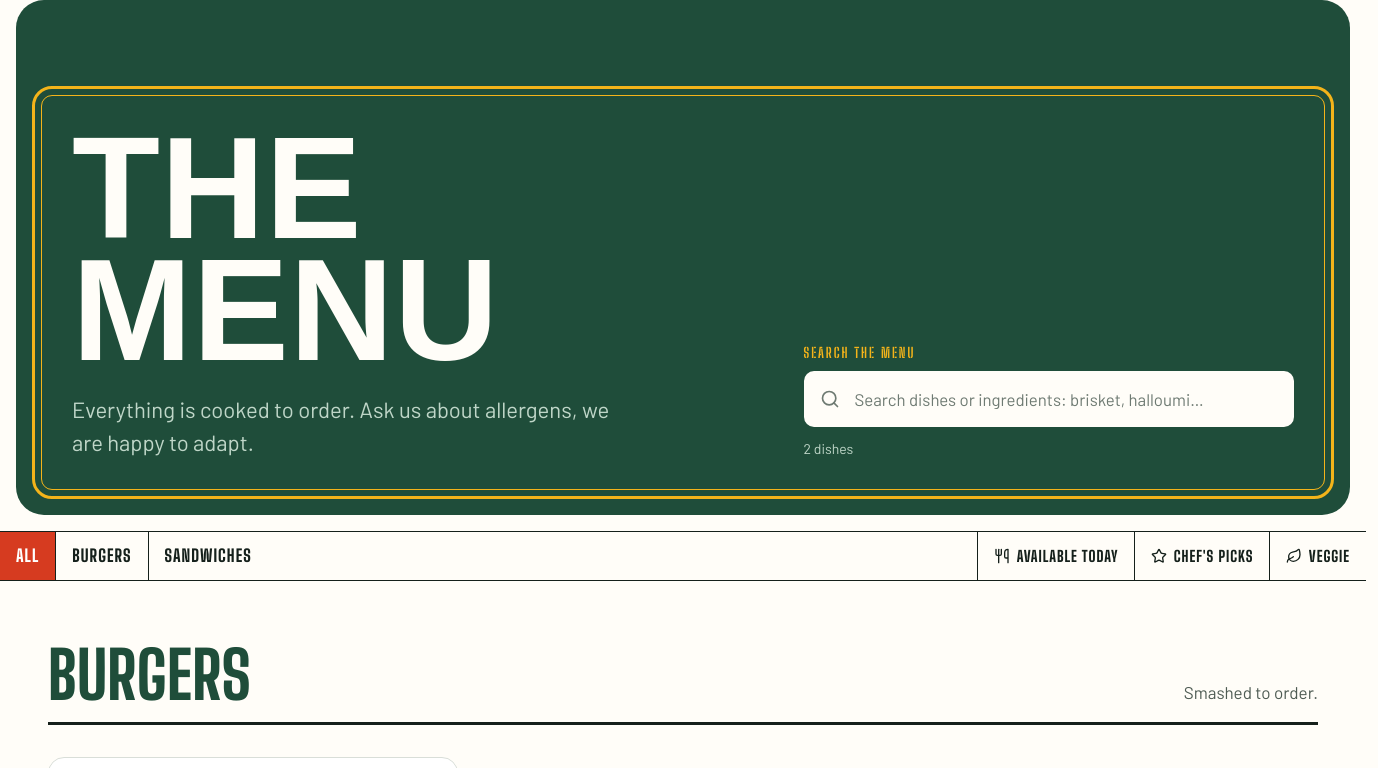
Test case: Public menu › searches dishes and shows a friendly empty state
Step 1. Type "zzz" into the search field labelled "Search the menu" → (1049, 399), box left=804, top=371, right=1294, bottom=427
(page scrolled)
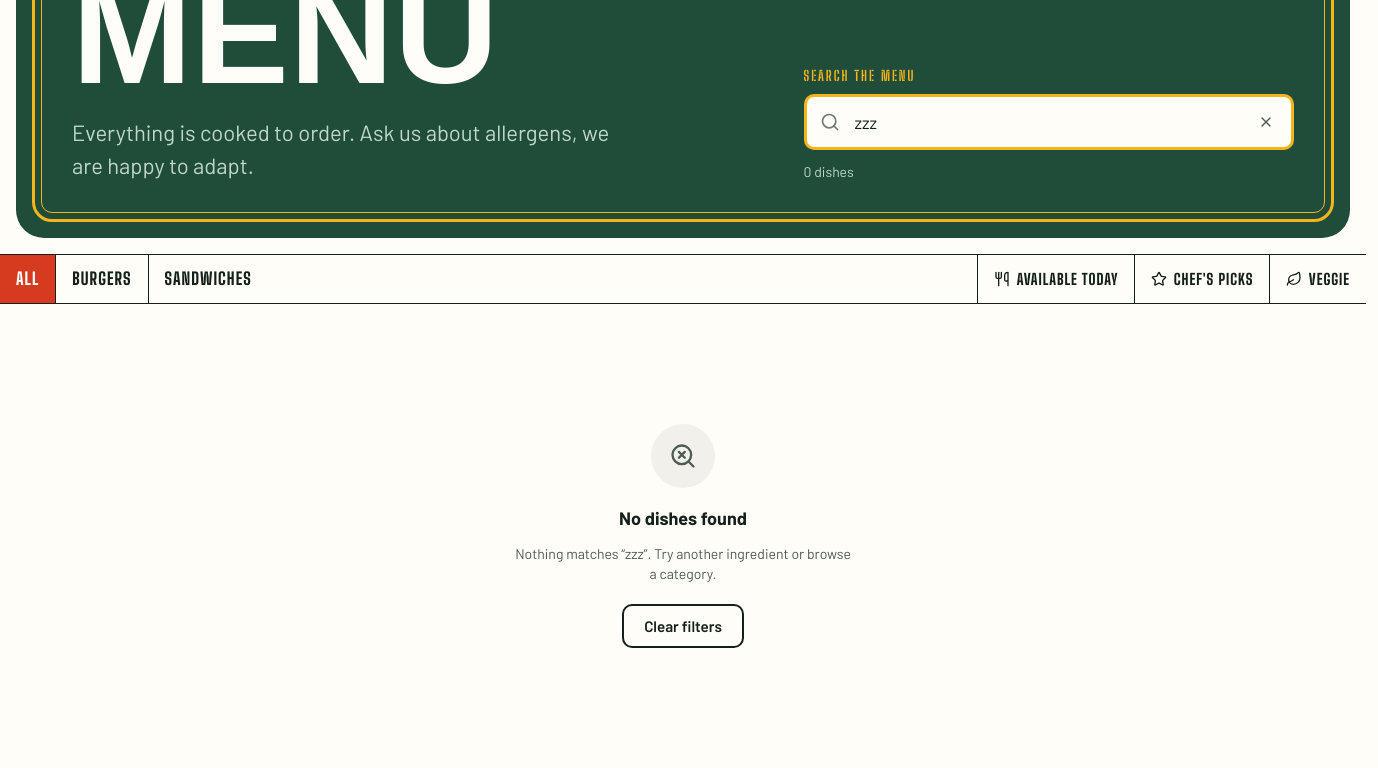
Expected: the text "No dishes found" is shown, left=619, top=504, right=747, bottom=532
